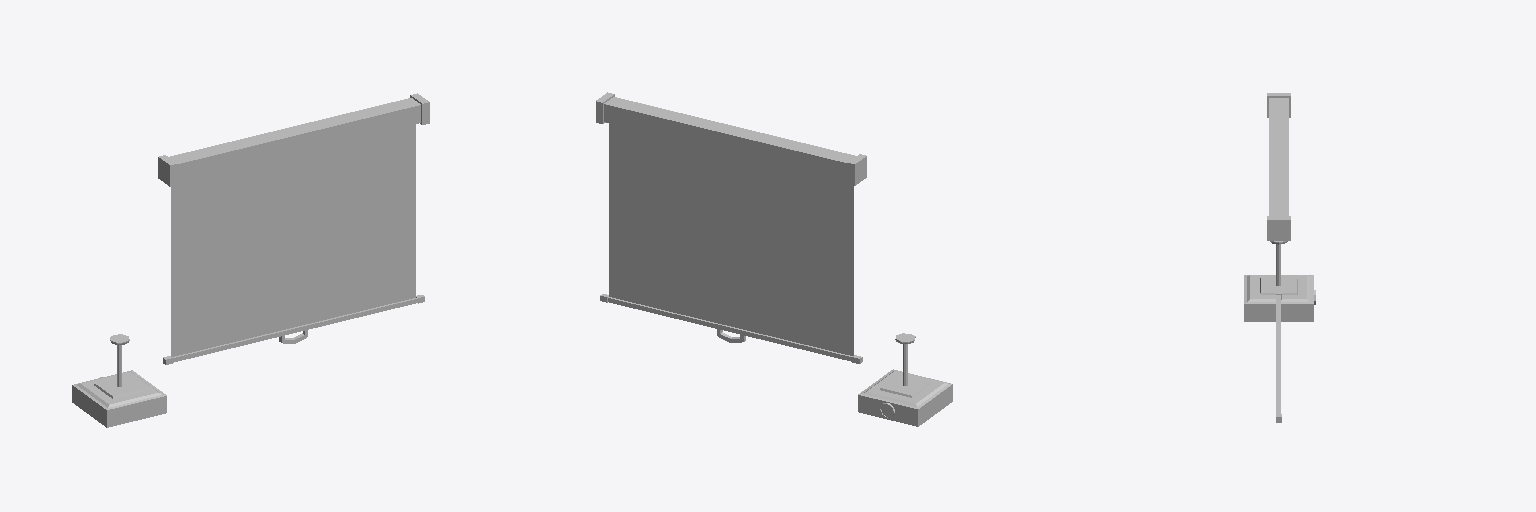
The model's file is projector screen.obj.
3 renders of one model, left to right at view 1: azimuth 30°, elevation 25°; view 2: azimuth 150°, elevation 25°; view 3: azimuth 270°, elevation 25°, orthographic.
Visible parts, largest first — view 1: Cube, Cube.001; view 2: Cube, Cube.001; view 3: Cube, Cube.001.
Boxes of the visible parts, box(x1,y1,x2,y2) form: Cube: box(158, 93, 429, 364); Cube.001: box(72, 334, 166, 427); Cube: box(596, 92, 866, 363); Cube.001: box(858, 333, 952, 426); Cube: box(1267, 93, 1290, 422); Cube.001: box(1244, 241, 1315, 321).
Size of the model in its own units: 15.53 by 10.48 by 2.9.